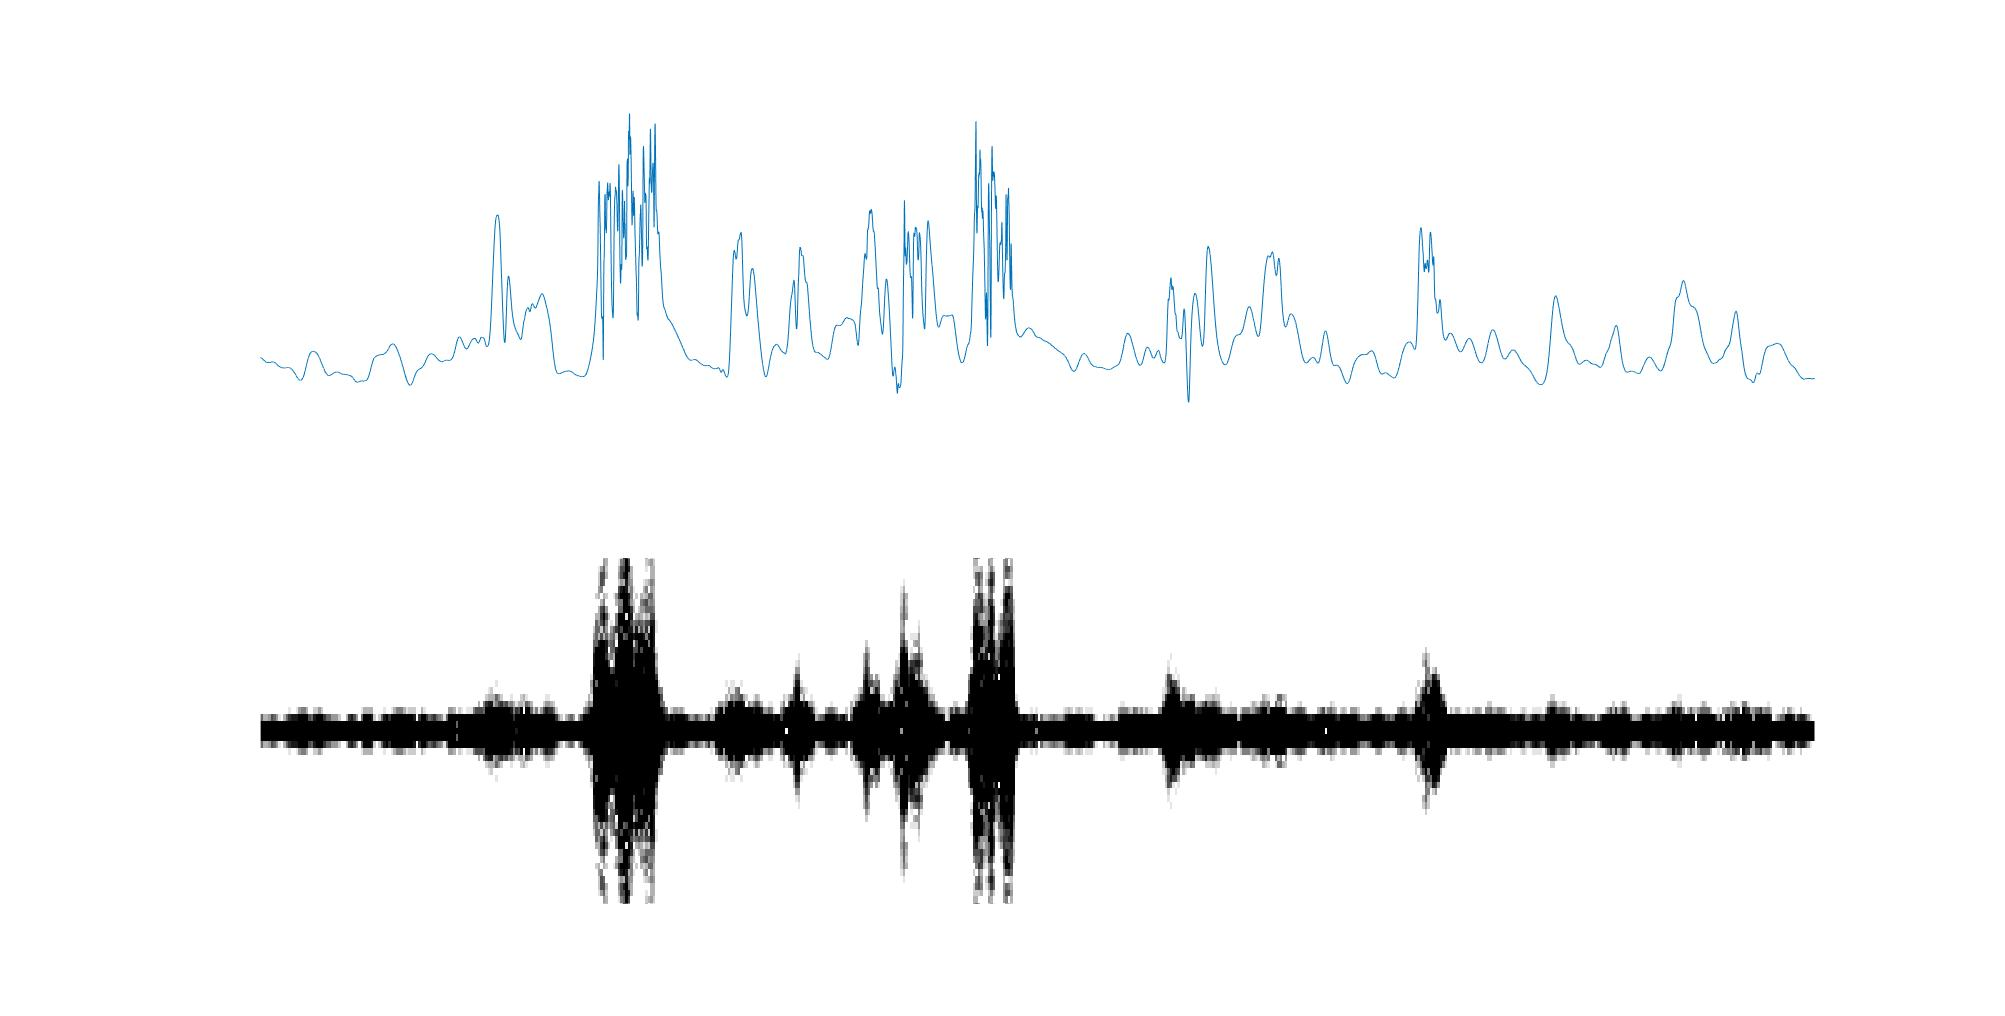spot: (585, 556, 664, 908), (968, 557, 1021, 918)
